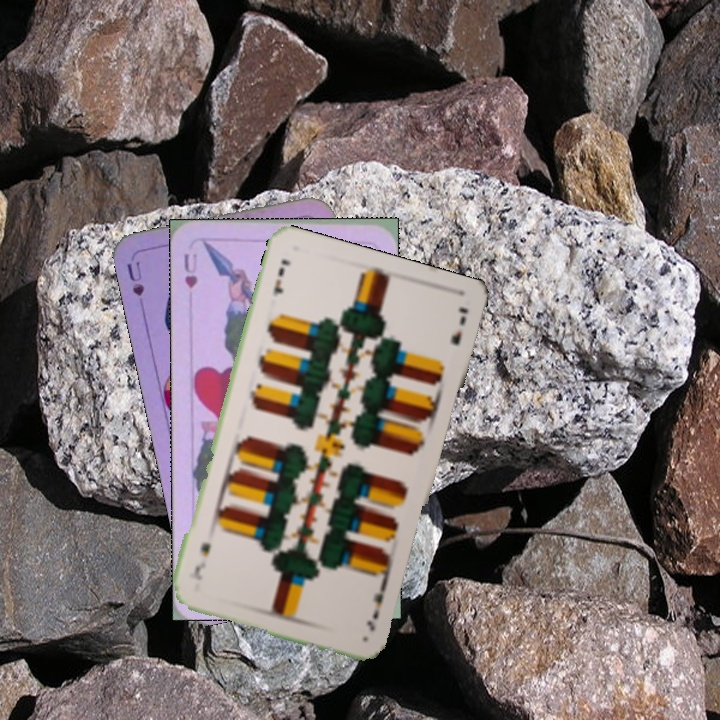E7: (363, 579, 390, 634), (269, 255, 294, 299)
HU: (180, 249, 200, 291)
SU: (122, 257, 148, 317)
